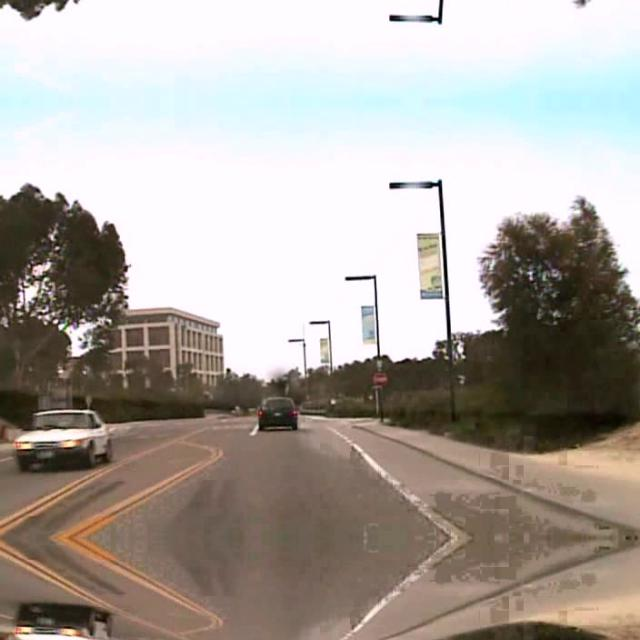stop: (372, 370, 386, 384)
